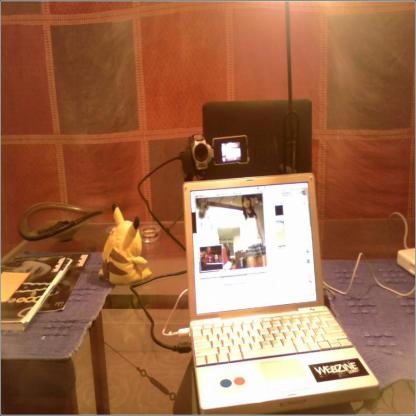board: (182, 173, 379, 416)
